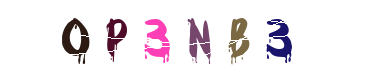0: (51, 0, 131, 80)
3: (142, 0, 222, 80), (240, 0, 320, 80)
B: (168, 0, 248, 80)
N: (145, 0, 225, 80)
P: (118, 0, 198, 80)
